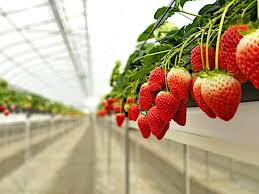ripe: (219, 22, 252, 83), (190, 70, 219, 120), (235, 29, 258, 90), (188, 43, 217, 76), (147, 105, 171, 140), (155, 90, 178, 124), (169, 96, 190, 129), (136, 79, 156, 112), (146, 64, 167, 94), (136, 116, 154, 139), (127, 104, 140, 121), (115, 111, 125, 127)
unripe: (201, 75, 242, 123), (165, 63, 192, 107), (123, 102, 130, 111)
